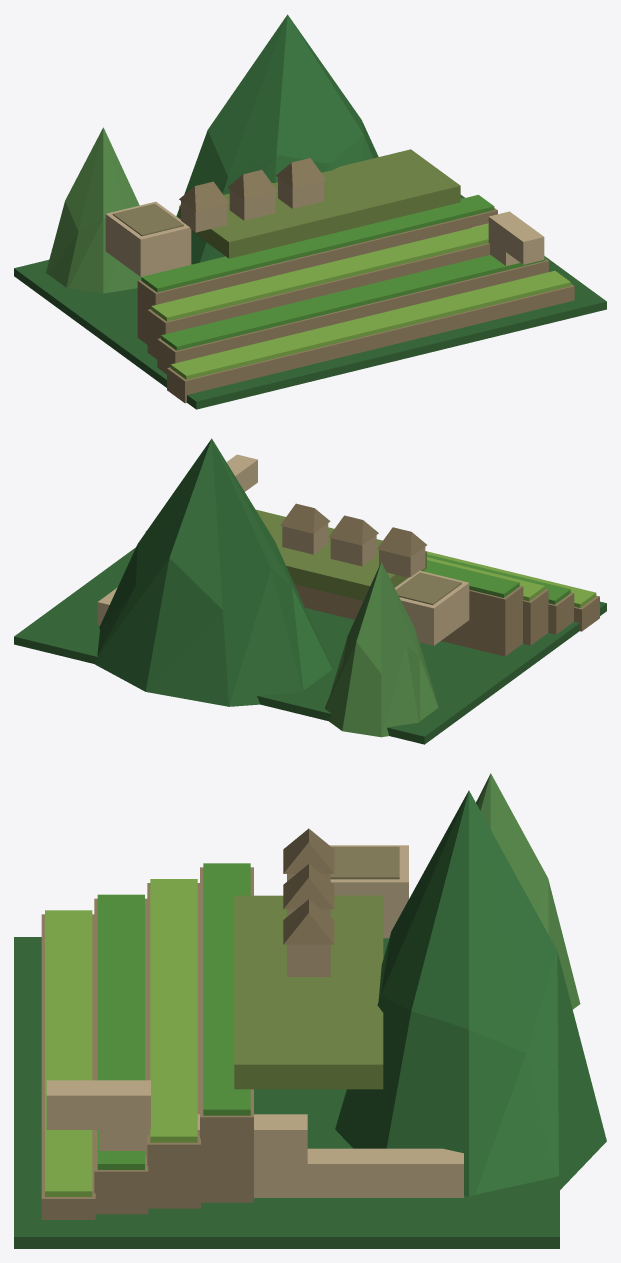
The model's file is machu-picchu.glb.
3 renders of one model, top to bottom at view 1: azimuth 30°, elevation 25°; view 2: azimuth 150°, elevation 25°; view 3: azimuth 270°, elevation 25°, orthographic. The views are drawn at different scales.
Parts seen in each view (by area): view 1: terrace_walls_A7A181, base, terraces_889B67, base_667F59, terraces, plateau_9A9B79, base_83916C, temple_ABA98A, houses_B1AB8B, houses_85876B, steps_B1AC8C, temple_858F6E; view 2: base, base_667F59, base_83916C, terrace_walls_A7A181, plateau_9A9B79, houses_B1AB8B, houses_85876B, temple_ABA98A, terraces, terraces_889B67, temple_858F6E, steps_B1AC8C; view 3: base, base_667F59, plateau_9A9B79, terraces_889B67, terraces, steps_B1AC8C, terrace_walls_A7A181, houses_85876B, base_83916C, temple_ABA98A, temple_858F6E, houses_B1AB8B.
Part boxes in pixels (left/top/right/bottom): terrace_walls_A7A181: left=137, top=208, right=574, bottom=403; base: left=176, top=14, right=378, bottom=264; terraces_889B67: left=151, top=224, right=570, bottom=379; base_667F59: left=14, top=195, right=606, bottom=409; terraces: left=141, top=194, right=545, bottom=350; plateau_9A9B79: left=179, top=149, right=460, bottom=258; base_83916C: left=46, top=127, right=141, bottom=293; temple_ABA98A: left=105, top=201, right=191, bottom=276; houses_B1AB8B: left=181, top=177, right=324, bottom=232; houses_85876B: left=179, top=158, right=325, bottom=211; steps_B1AC8C: left=460, top=198, right=544, bottom=265; temple_858F6E: left=112, top=203, right=183, bottom=236; base: left=94, top=438, right=332, bottom=706; base_667F59: left=14, top=547, right=606, bottom=744; base_83916C: left=325, top=562, right=438, bottom=737; terrace_walls_A7A181: left=294, top=584, right=599, bottom=656; plateau_9A9B79: left=145, top=510, right=426, bottom=600; houses_B1AB8B: left=282, top=523, right=425, bottom=577; houses_85876B: left=280, top=503, right=426, bottom=557; temple_ABA98A: left=395, top=570, right=469, bottom=645; terraces: left=423, top=554, right=570, bottom=604; terraces_889B67: left=259, top=510, right=596, bottom=607; temple_858F6E: left=396, top=572, right=461, bottom=604; steps_B1AC8C: left=97, top=454, right=257, bottom=625; base: left=335, top=790, right=606, bottom=1196; base_667F59: left=14, top=937, right=559, bottom=1248; plateau_9A9B79: left=234, top=895, right=383, bottom=1089; terraces_889B67: left=45, top=879, right=197, bottom=1196; terraces: left=97, top=863, right=250, bottom=1169; steps_B1AC8C: left=46, top=1080, right=463, bottom=1197; terrace_walls_A7A181: left=41, top=867, right=253, bottom=1219; houses_85876B: left=283, top=828, right=334, bottom=944; base_83916C: left=476, top=773, right=580, bottom=1009; temple_ABA98A: left=330, top=845, right=408, bottom=938; temple_858F6E: left=330, top=846, right=399, bottom=879; houses_B1AB8B: left=287, top=874, right=330, bottom=976.
Size of the model in its own units: 1 by 0.5204 by 0.8312.
